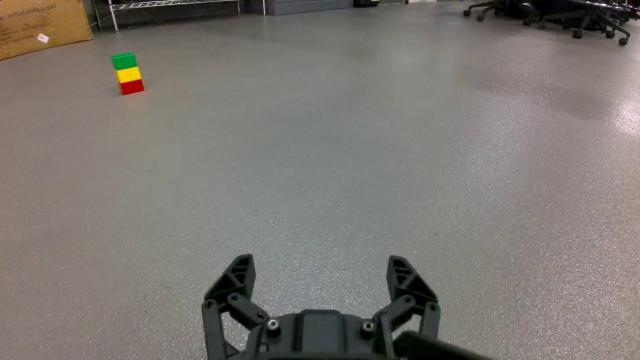lego: (109, 50, 147, 96)
